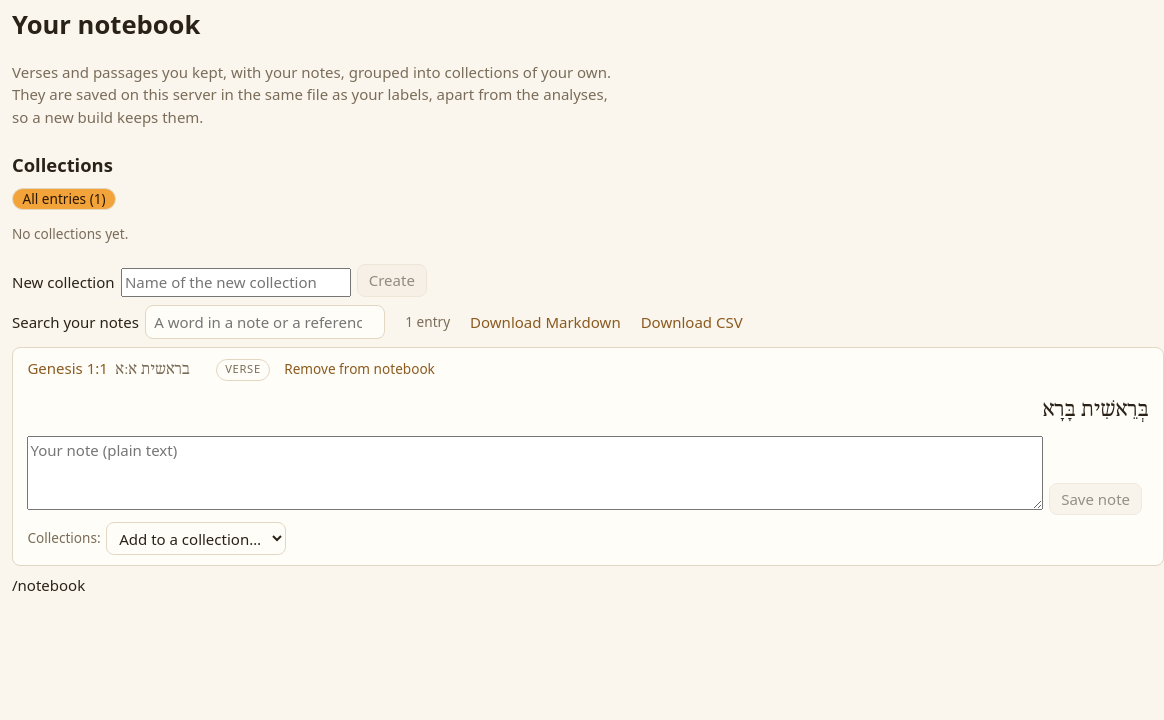
Test: NotebookPage › creates, renames and deletes a collection; its entries stay
Expected: the text "No collections yet." is shown, [12,224,128,243]
Type "Openings" into the field labelled "New collection" at {"x": 236, "y": 282}, box [121,268,351,297]
Click the button "Create" at {"x": 392, "y": 280}, box [356,264,427,297]
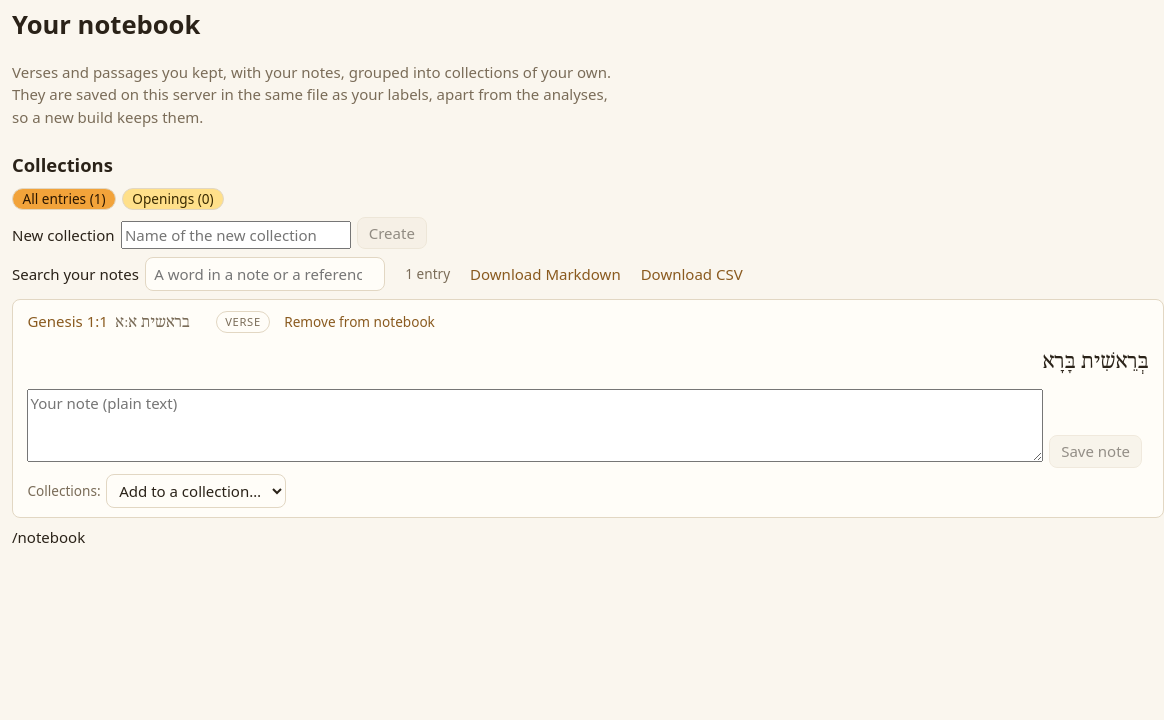
Click the button "Openings (0)" at {"x": 173, "y": 199}, box [122,188,224,210]
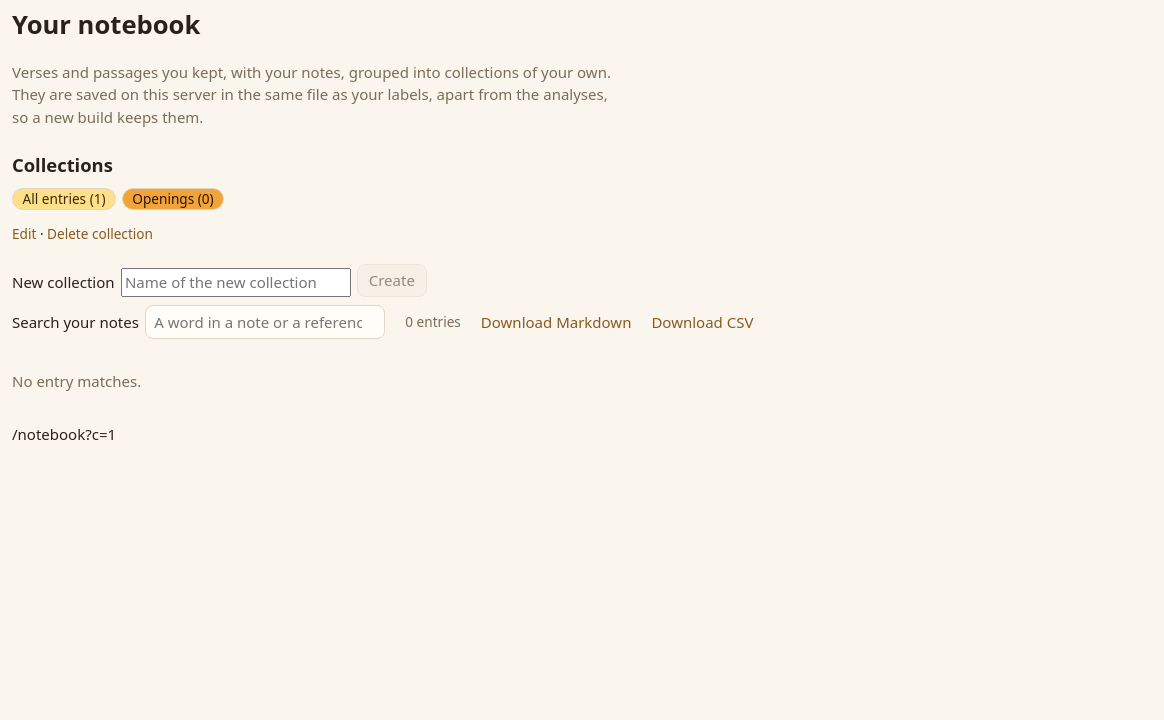
Click the button "Edit" at {"x": 24, "y": 234}, box [12,224,36,244]
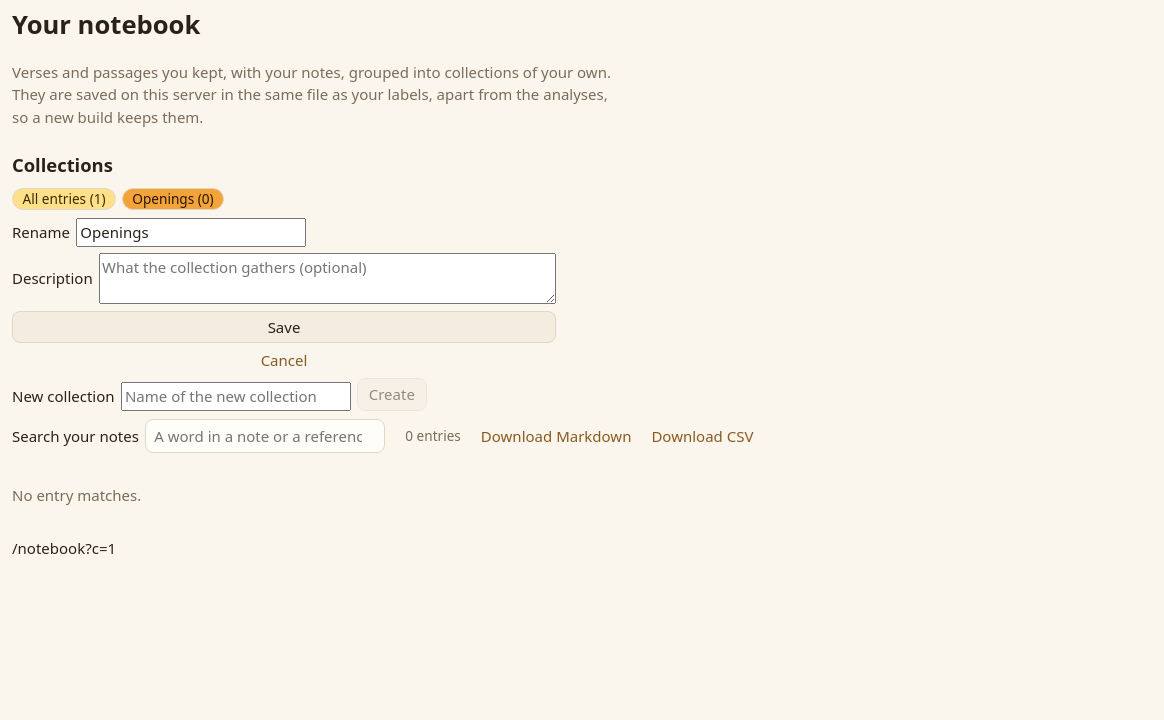
Replace the text in the field labelled "Rename" with "Beginnings" at {"x": 191, "y": 233}, box [76,218,306,247]
Click the button "Save" at {"x": 284, "y": 327}, box [12,310,556,343]
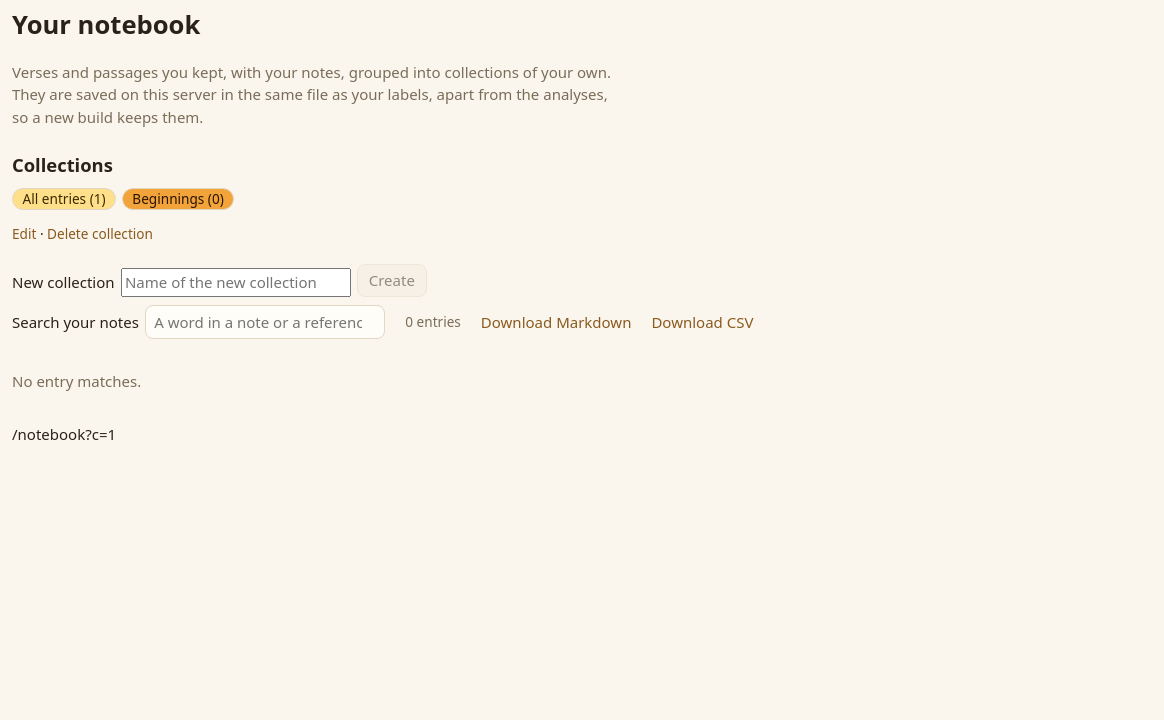
Expected: the button "Beginnings (0)" is shown, [122,188,234,210]
Click the button "Delete collection" at {"x": 100, "y": 234}, box [47,224,153,244]
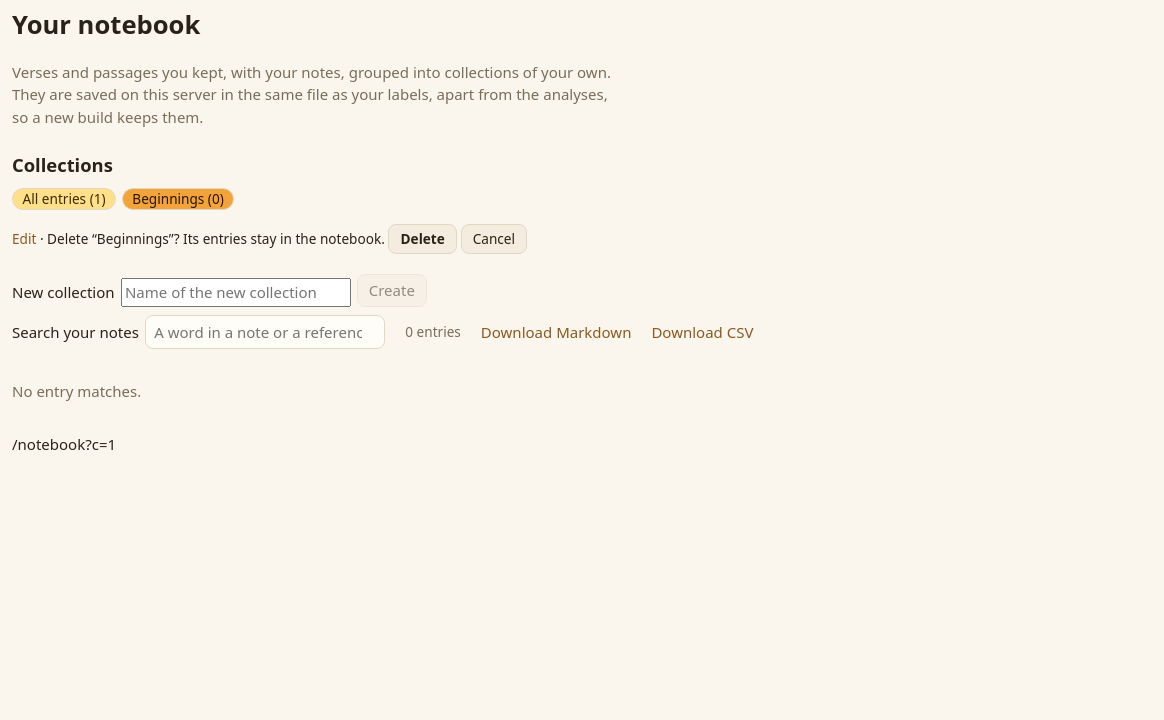
Click the button "Delete" at {"x": 423, "y": 239}, box [388,224,457,254]
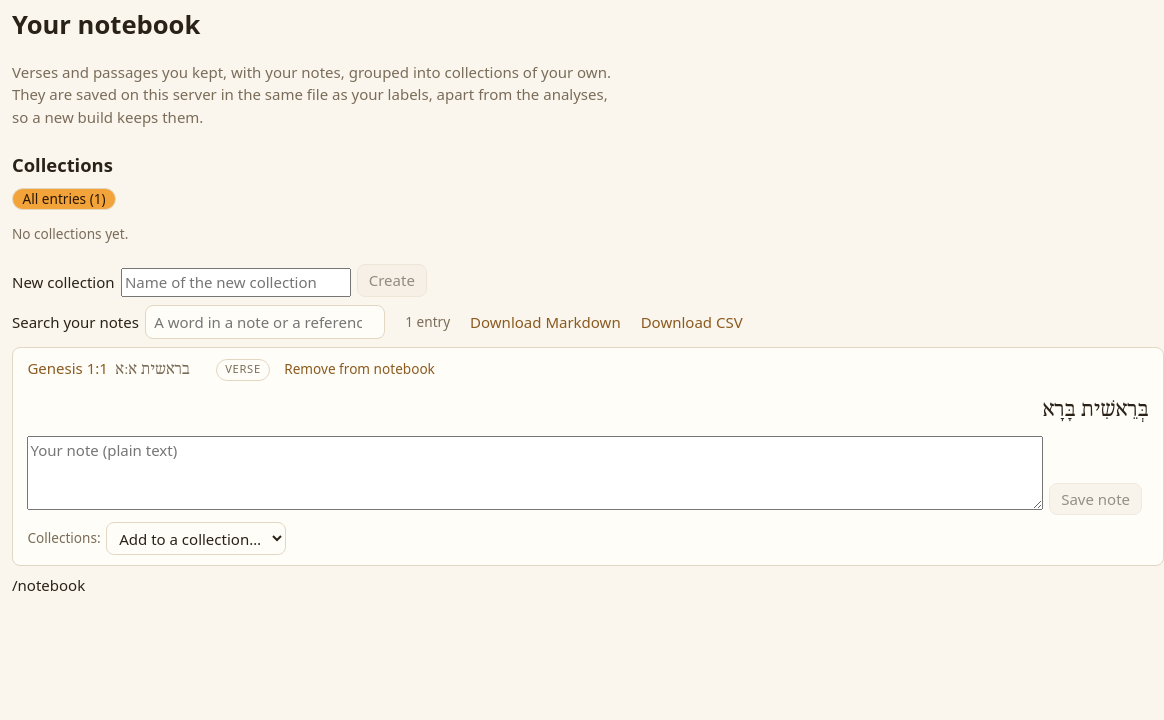
Expected: the text "No collections yet." is shown, [12,224,128,243]
Expected: the text with test id "loc" reads "/notebook", [12,575,85,595]
